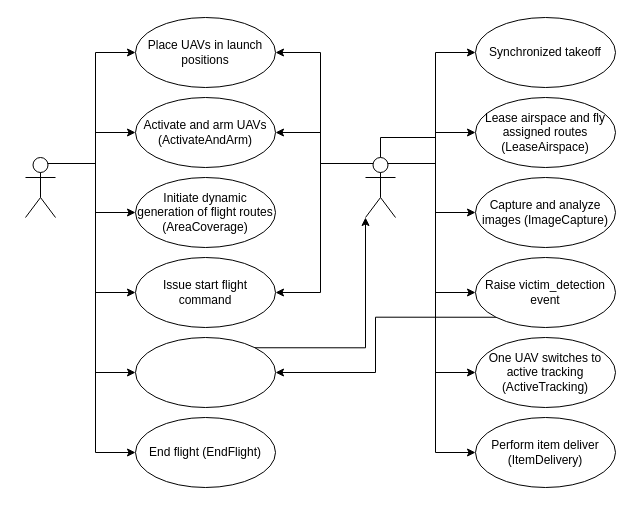
This 633x505 diagram has some shape labels left out. Each missing label, with the centre of its shape:
Operator: pixel 40 187
UAV: pixel 380 187
Victim confirmation (VictimConfirm): pixel 205 372
